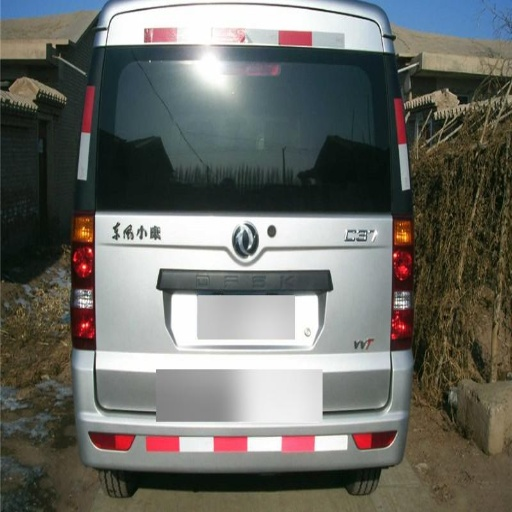back_bumper: (287, 350, 414, 466), (74, 350, 195, 470)
tailgate: (131, 185, 388, 352)
trunk: (97, 213, 389, 423)
